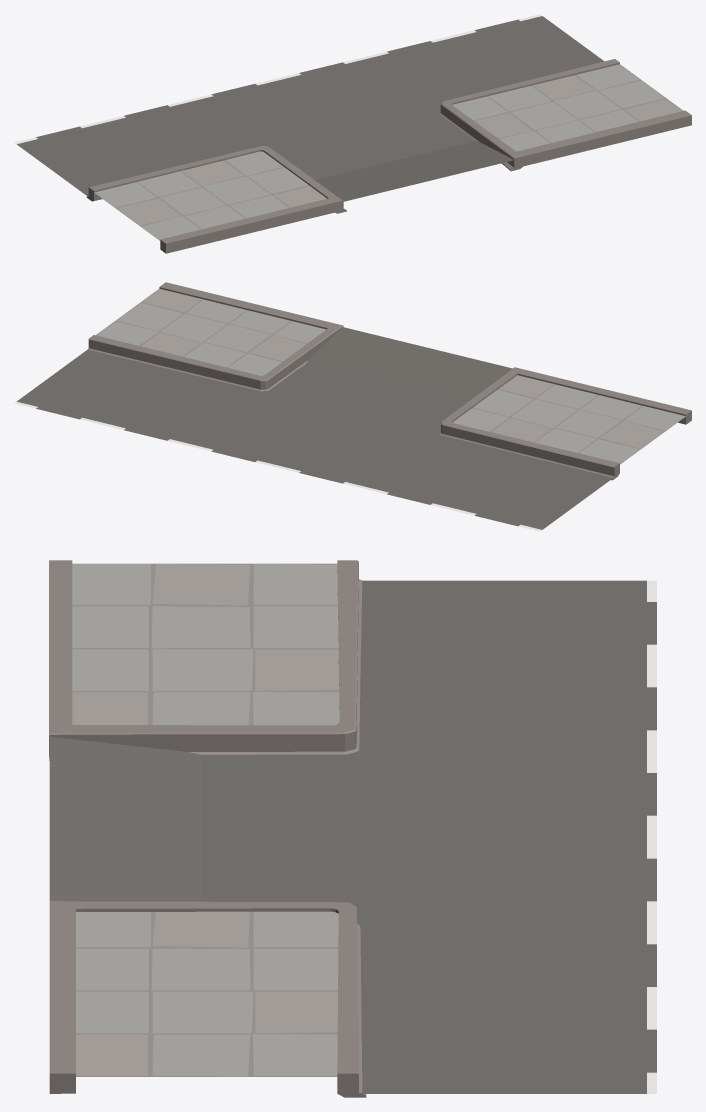
File: Road_11.fbx
3 views of the same model, one above another, from view 1: azimuth 30°, elevation 25°; view 2: azimuth 150°, elevation 25°; view 3: azimuth 270°, elevation 25° (orthographic). The views are drawn at different scales.
Visible parts, largest first — view 1: Road_11; view 2: Road_11; view 3: Road_11.
Boxes of the visible parts, bbox=[...] form: Road_11: bbox=[14, 14, 691, 253]; Road_11: bbox=[14, 282, 691, 531]; Road_11: bbox=[49, 560, 656, 1097].
Bounding box in the file's own units: 24.01 × 0.5208 × 12.01.
